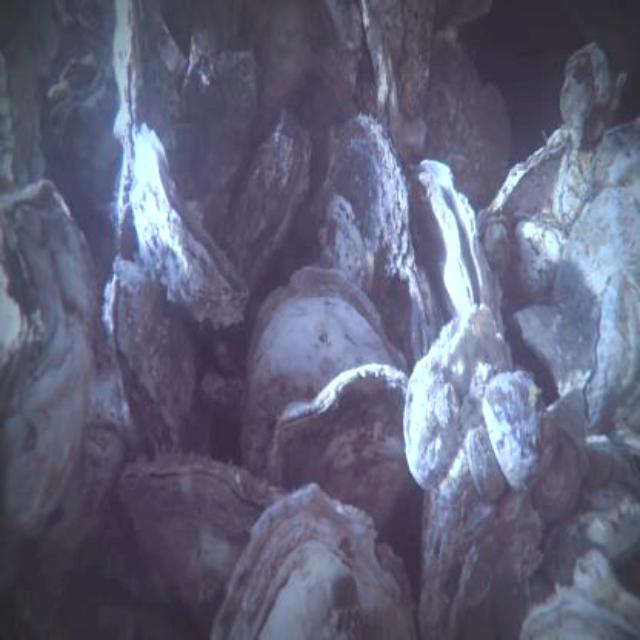Oyster-Closed: (240, 267, 409, 474), (0, 182, 90, 543), (210, 490, 421, 638), (268, 363, 415, 531), (130, 127, 250, 331), (125, 456, 281, 607), (403, 306, 500, 490), (107, 255, 197, 449), (319, 117, 410, 308), (114, 0, 178, 228), (552, 186, 638, 341), (237, 109, 309, 282), (581, 269, 638, 431), (483, 369, 556, 490), (542, 506, 638, 583), (515, 305, 593, 393), (518, 597, 638, 638), (466, 425, 506, 502), (463, 502, 496, 548)
Oyster-Open: (407, 156, 499, 323)
